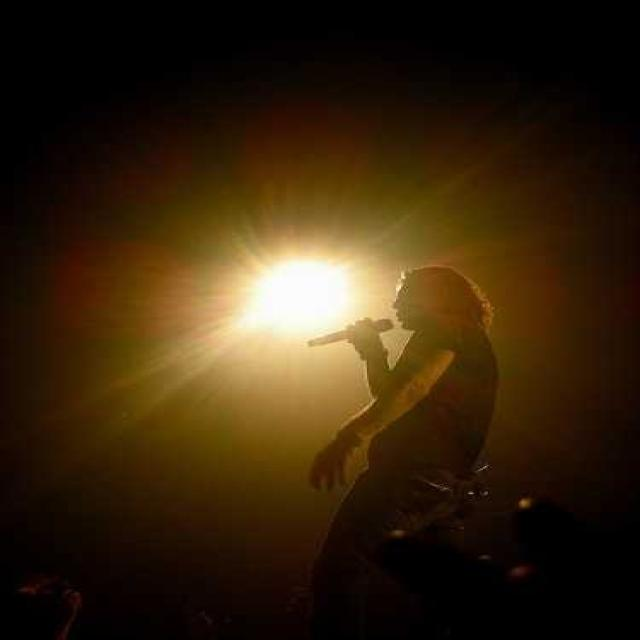microphone: (304, 316, 398, 348)
